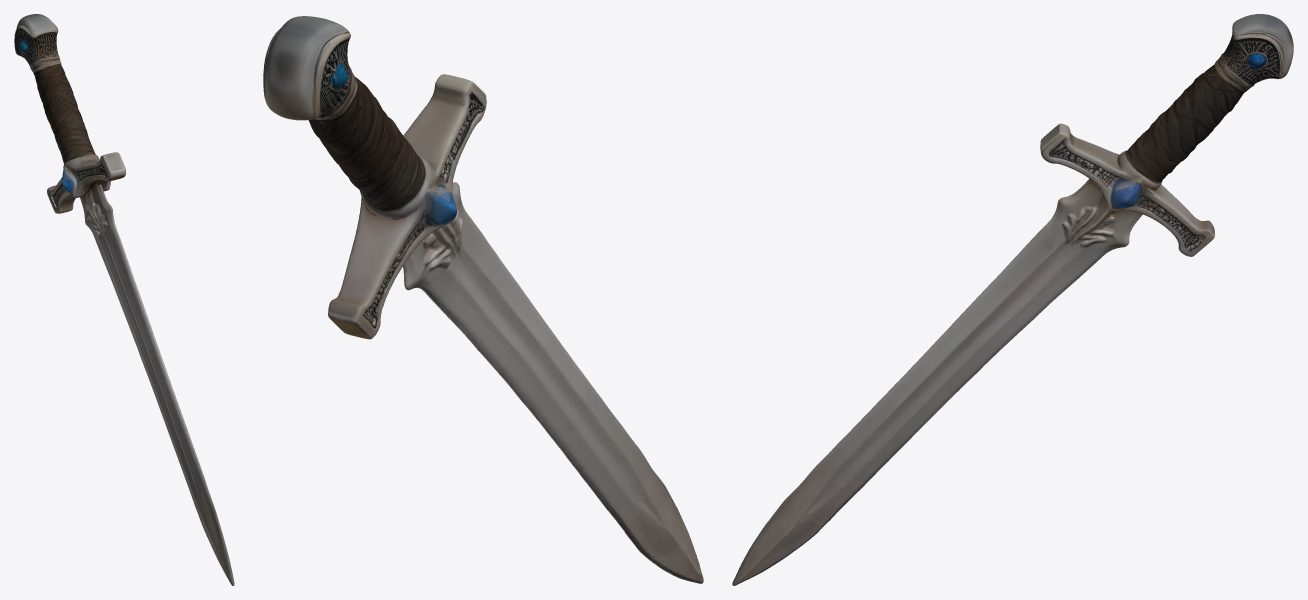
The picture shows the model from 3 angles, left to right: view 1: azimuth 30°, elevation 25°; view 2: azimuth 150°, elevation 25°; view 3: azimuth 270°, elevation 25°; orthographic projection. The views are drawn at different scales.
Parts seen in each view (by area): view 1: tripo_node_32667e01-4f84-48b5-bf17-a2c30cc5b810; view 2: tripo_node_32667e01-4f84-48b5-bf17-a2c30cc5b810; view 3: tripo_node_32667e01-4f84-48b5-bf17-a2c30cc5b810.
Part boxes in pixels (x1=…): tripo_node_32667e01-4f84-48b5-bf17-a2c30cc5b810: x1=14, y1=14, x2=234, y2=585; tripo_node_32667e01-4f84-48b5-bf17-a2c30cc5b810: x1=263, y1=16, x2=703, y2=583; tripo_node_32667e01-4f84-48b5-bf17-a2c30cc5b810: x1=732, y1=14, x2=1293, y2=585.
Bounding box in the file's own units: 0.1191 × 1 × 0.8957.
Materials: 1 (1 with a texture image).
